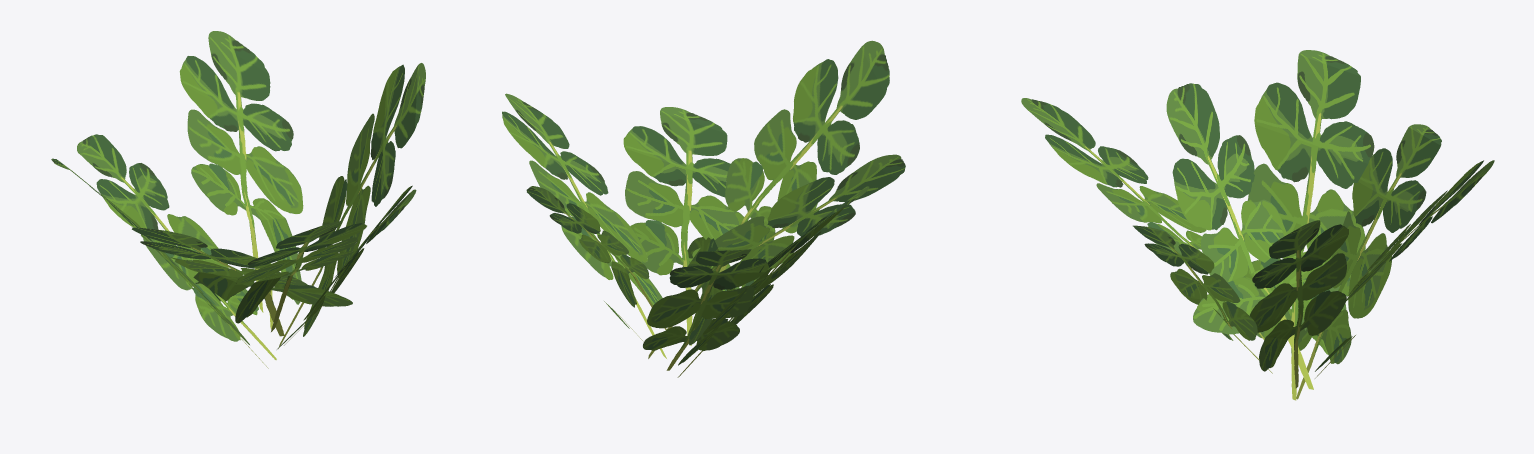
The model's file is watercress.fbx.
3 views of the same model, side by side, from view 1: azimuth 30°, elevation 25°; view 2: azimuth 150°, elevation 25°; view 3: azimuth 270°, elevation 25° (orthographic). The views are drawn at different scales.
Visible parts, largest first — view 1: Dandelion, Dandelion_1.001; view 2: Dandelion_1.001, Dandelion; view 3: Dandelion, Dandelion_1.001.
Boxes of the visible parts, x1,y1,x2,y2 form: Dandelion: [51, 31, 425, 368]; Dandelion_1.001: [77, 134, 416, 360]; Dandelion_1.001: [604, 107, 905, 370]; Dandelion: [502, 40, 889, 377]; Dandelion: [1021, 50, 1494, 400]; Dandelion_1.001: [1133, 83, 1441, 399].
Bounding box in the file's own units: 133 × 97.72 × 136.
